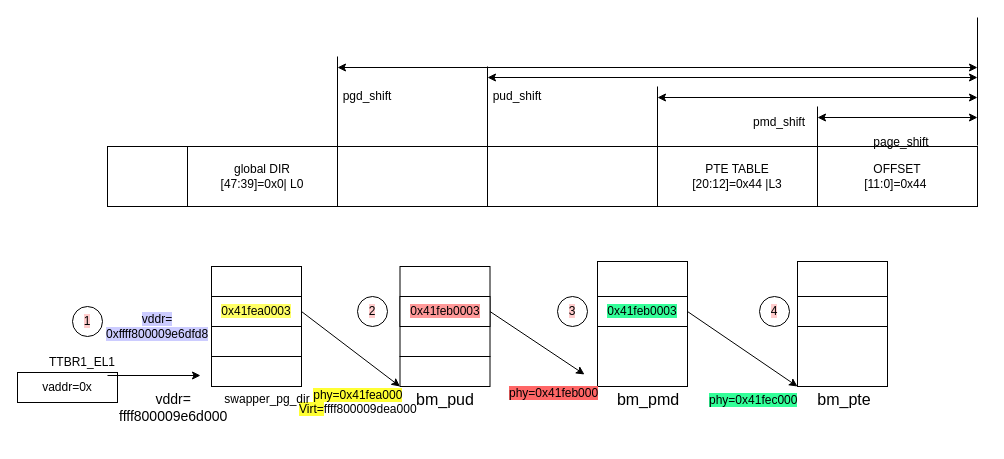
Image size: 1004x459. Some labels were removed from this diagram. The shapes that lost their labels are listed below. From the top down, each one's box as (x1, y1, x2, y2) in pixels, then its label:
(106, 146, 188, 206): Select TTBR
(336, 146, 488, 206): upper DIR [38:30]=0x0 |L1
(486, 146, 658, 206): pmd DIR [29:21]=0x44 |L2
